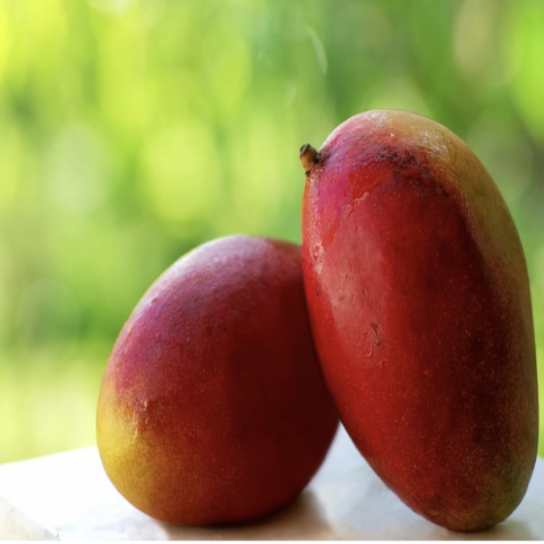mango: (271, 104, 544, 544), (72, 231, 375, 539)
